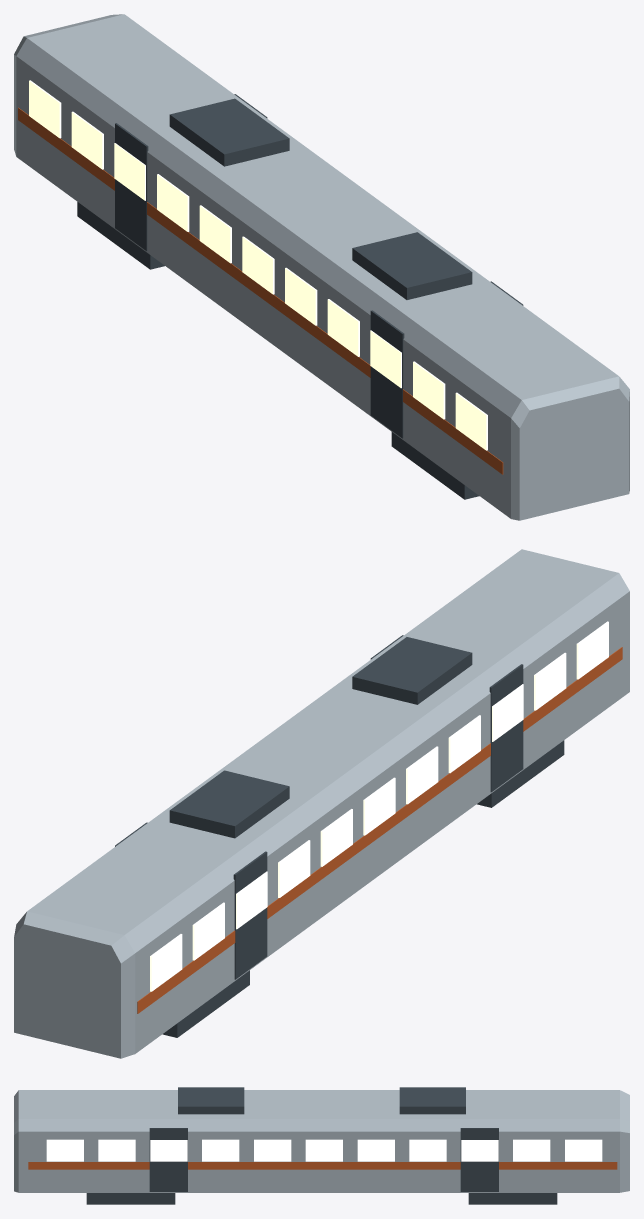
File: subway-car.glb
3 renders of one model, top to bottom at view 1: azimuth 30°, elevation 25°; view 2: azimuth 150°, elevation 25°; view 3: azimuth 270°, elevation 25°, orthographic. The views are drawn at different scales.
Size of the model in its own units: 2.72 by 3.24 by 19.5.
